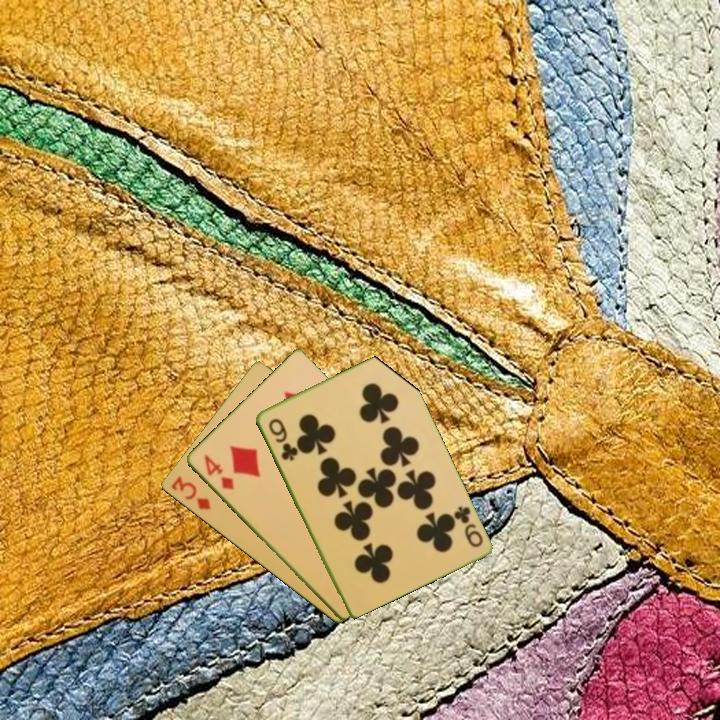3d: (167, 472, 213, 513)
4d: (200, 451, 237, 493)
9c: (450, 502, 486, 550), (264, 415, 299, 464)
